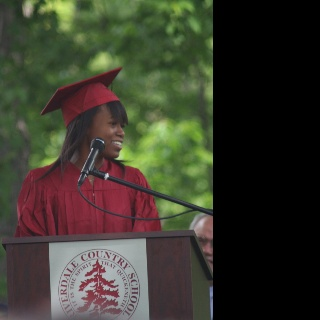without_mask: (88, 104, 126, 156)
